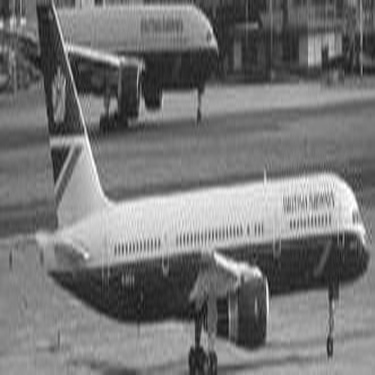airplane: (23, 2, 371, 370), (3, 3, 232, 127)
